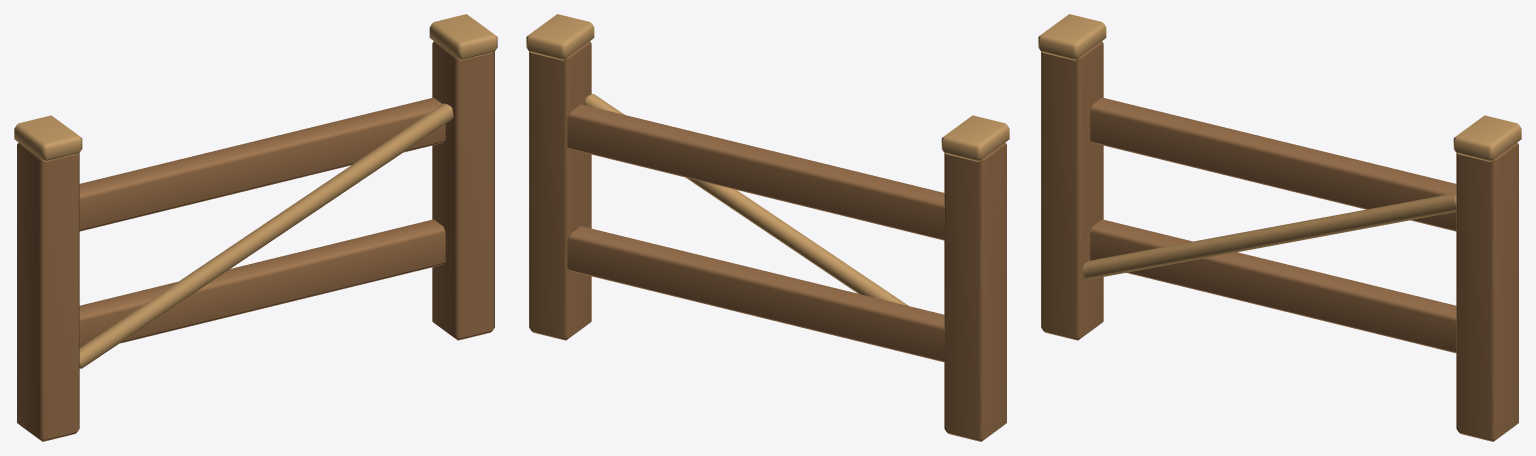
Rendered from farm_art_fence_rustic.glb.
3 views of the same model, side by side, from view 1: azimuth 30°, elevation 25°; view 2: azimuth 150°, elevation 25°; view 3: azimuth 330°, elevation 25° (orthographic).
Visible parts, largest first — view 1: Square post, Square post.001, Continuous two metre rail.001, Continuous two metre rail, Diagonal timber brace, Post cap, Post cap.001; view 2: Continuous two metre rail.001, Continuous two metre rail, Square post, Square post.001, Diagonal timber brace, Post cap, Post cap.001; view 3: Square post.001, Continuous two metre rail.001, Square post, Continuous two metre rail, Diagonal timber brace, Post cap.001, Post cap.
Boxes of the visible parts, box(x1,y1,x2,y2) form: Square post: box(17, 142, 79, 441); Square post.001: box(432, 41, 494, 340); Continuous two metre rail.001: box(19, 97, 445, 239); Continuous two metre rail: box(20, 219, 445, 361); Diagonal timber brace: box(79, 103, 453, 368); Post cap: box(14, 115, 82, 161); Post cap.001: box(429, 14, 497, 60); Continuous two metre rail.001: box(567, 104, 995, 240); Continuous two metre rail: box(567, 226, 944, 362); Square post: box(944, 142, 1006, 441); Square post.001: box(529, 41, 591, 340); Diagonal timber brace: box(584, 94, 908, 305); Post cap: box(941, 115, 1009, 161); Post cap.001: box(526, 14, 594, 60); Square post.001: box(1456, 142, 1518, 441); Continuous two metre rail.001: box(1090, 97, 1456, 231); Square post: box(1041, 41, 1103, 340); Continuous two metre rail: box(1090, 219, 1456, 353); Diagonal timber brace: box(1082, 193, 1456, 279); Post cap.001: box(1453, 115, 1521, 161); Post cap: box(1038, 14, 1106, 60).
Size of the model in its own units: 2 by 1.26 by 0.24.
